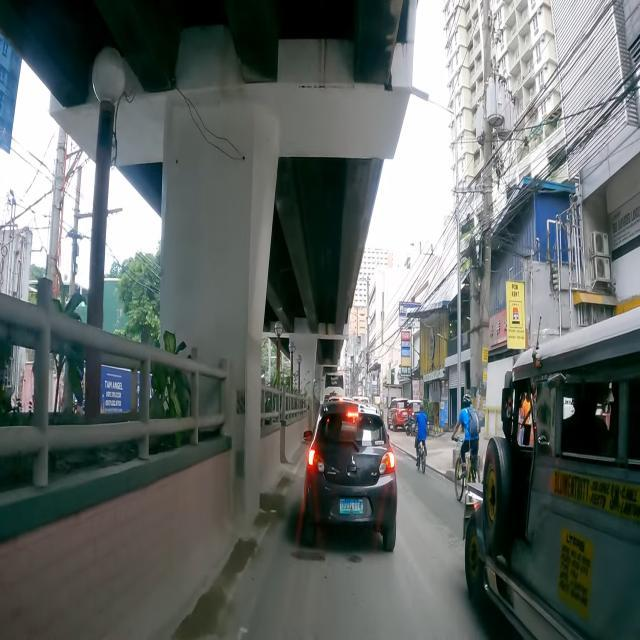bike: (450, 392, 480, 504), (413, 402, 428, 474)
bus: (323, 373, 346, 401)
car: (302, 400, 398, 552)
jeepney: (462, 306, 640, 640)
tricycle: (404, 400, 428, 436)
